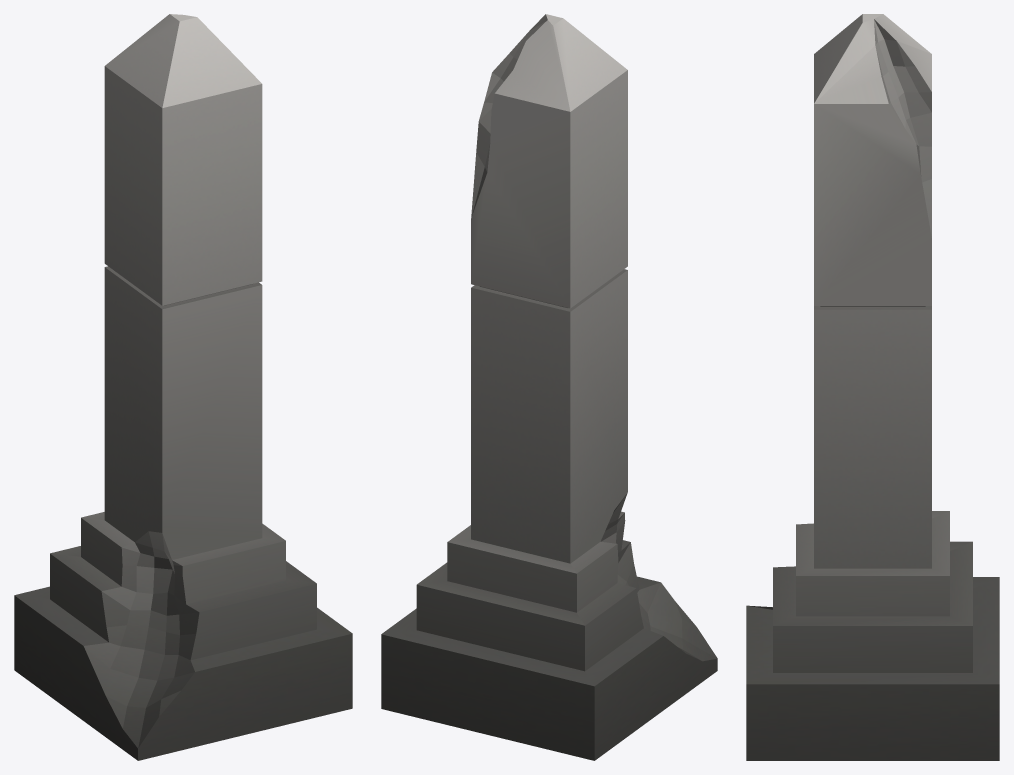
File: monoliths_modelo_03.fbx
The picture shows the model from 3 angles, left to right: view 1: azimuth 30°, elevation 25°; view 2: azimuth 150°, elevation 25°; view 3: azimuth 270°, elevation 25°; orthographic projection. The views are drawn at different scales.
Parts seen in each view (by area): view 1: Cube.003; view 2: Cube.003; view 3: Cube.003.
Part boxes in pixels (left/top/right/bottom): Cube.003: left=14, top=14, right=352, bottom=760; Cube.003: left=381, top=14, right=717, bottom=760; Cube.003: left=746, top=14, right=999, bottom=760.
Bounding box in the file's own units: 3 × 9 × 3.
